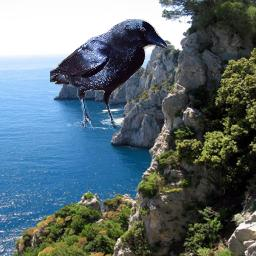Crow: (50, 19, 168, 132)
